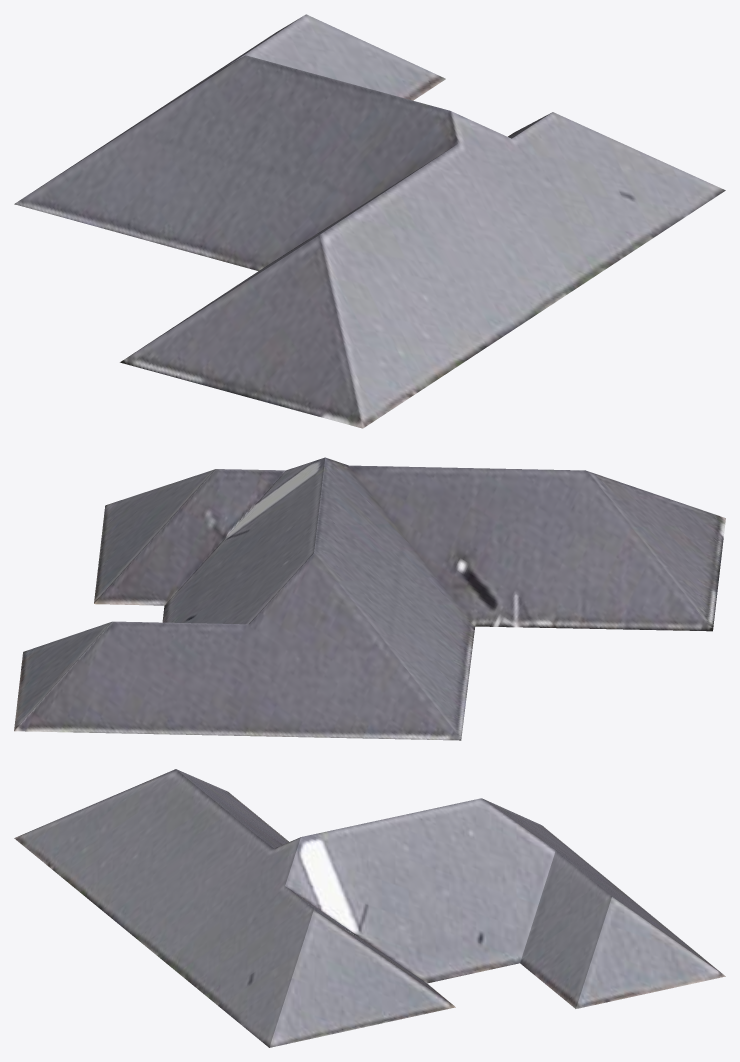
Rendered from BK39_500_016030_0047_roof.obj.
The picture shows the model from 3 angles, top to bottom: view 1: azimuth 30°, elevation 25°; view 2: azimuth 150°, elevation 25°; view 3: azimuth 270°, elevation 25°; orthographic projection. The views are drawn at different scales.
Visible parts, largest first — view 1: BK39_500_016030_0047_roof; view 2: BK39_500_016030_0047_roof; view 3: BK39_500_016030_0047_roof.
Part boxes in pixels (bbox=[...]): BK39_500_016030_0047_roof: bbox=[14, 14, 725, 428]; BK39_500_016030_0047_roof: bbox=[14, 457, 725, 740]; BK39_500_016030_0047_roof: bbox=[14, 769, 725, 1047].
Size of the model in its own units: 360 by 70 by 423.
Materials: 1 (1 with a texture image).
